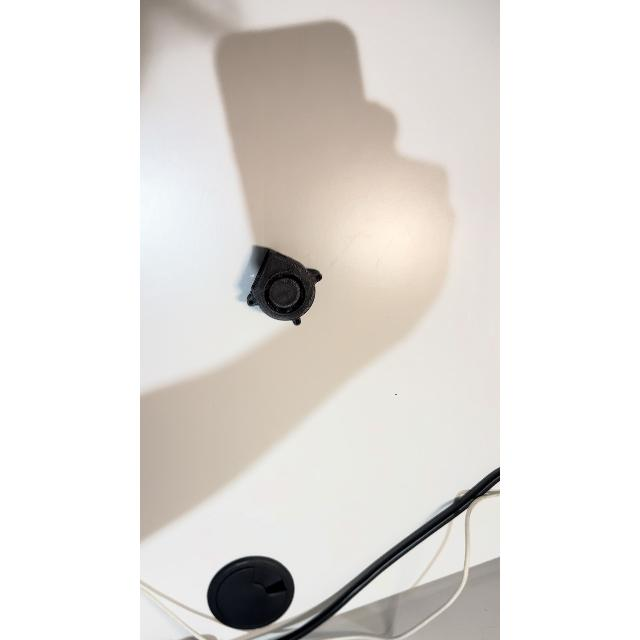Pieza_3: (243, 240, 329, 334)
